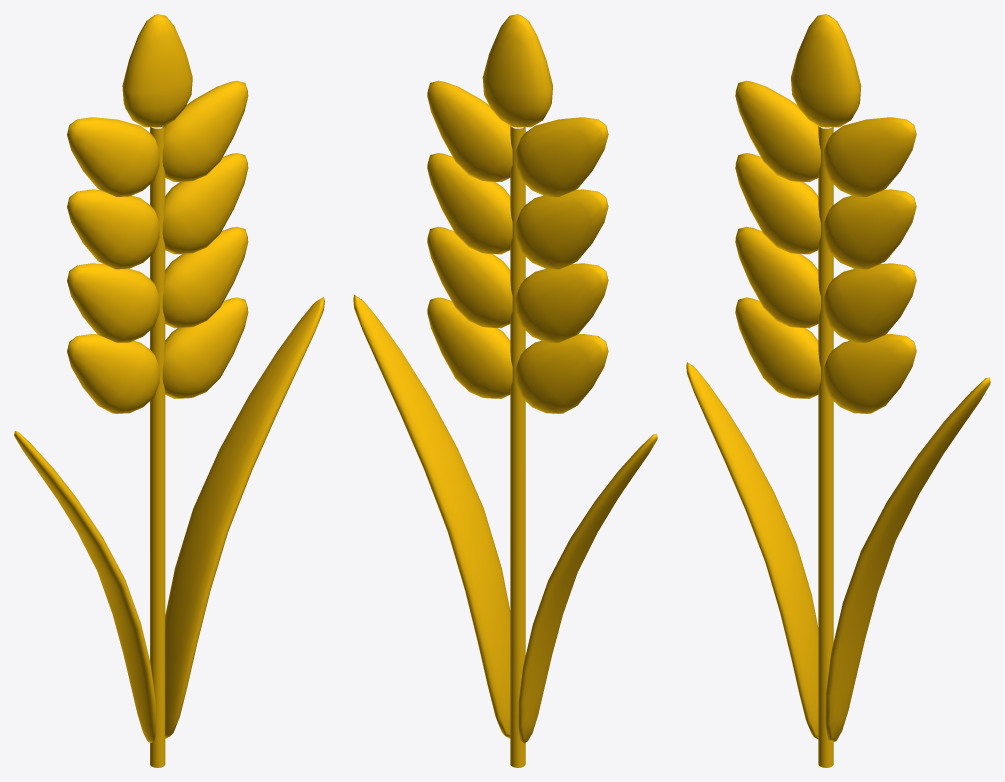
Rendered from Farm_4_Wheat_Ear_2.glb.
3 renders of one model, left to right at view 1: azimuth 30°, elevation 25°; view 2: azimuth 150°, elevation 25°; view 3: azimuth 330°, elevation 25°, orthographic.
Parts seen in each view (by area): view 1: Farm_4_Wheat_Ear_2; view 2: Farm_4_Wheat_Ear_2; view 3: Farm_4_Wheat_Ear_2.
Part boxes in pixels (box(x1,y1,x2,y2)): Farm_4_Wheat_Ear_2: box(14, 14, 324, 767); Farm_4_Wheat_Ear_2: box(353, 14, 657, 767); Farm_4_Wheat_Ear_2: box(686, 14, 990, 767).
Size of the model in its own units: 0.6844 by 1.6 by 0.1248.
1 material, 1 textured.
